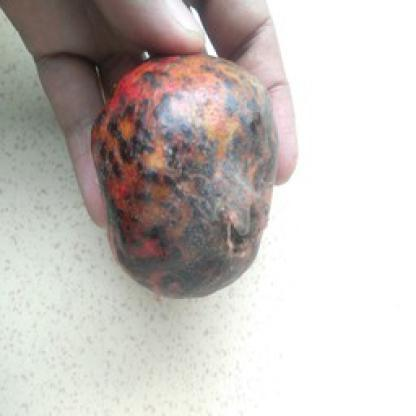pomegranate_rotten: (88, 53, 276, 300)
